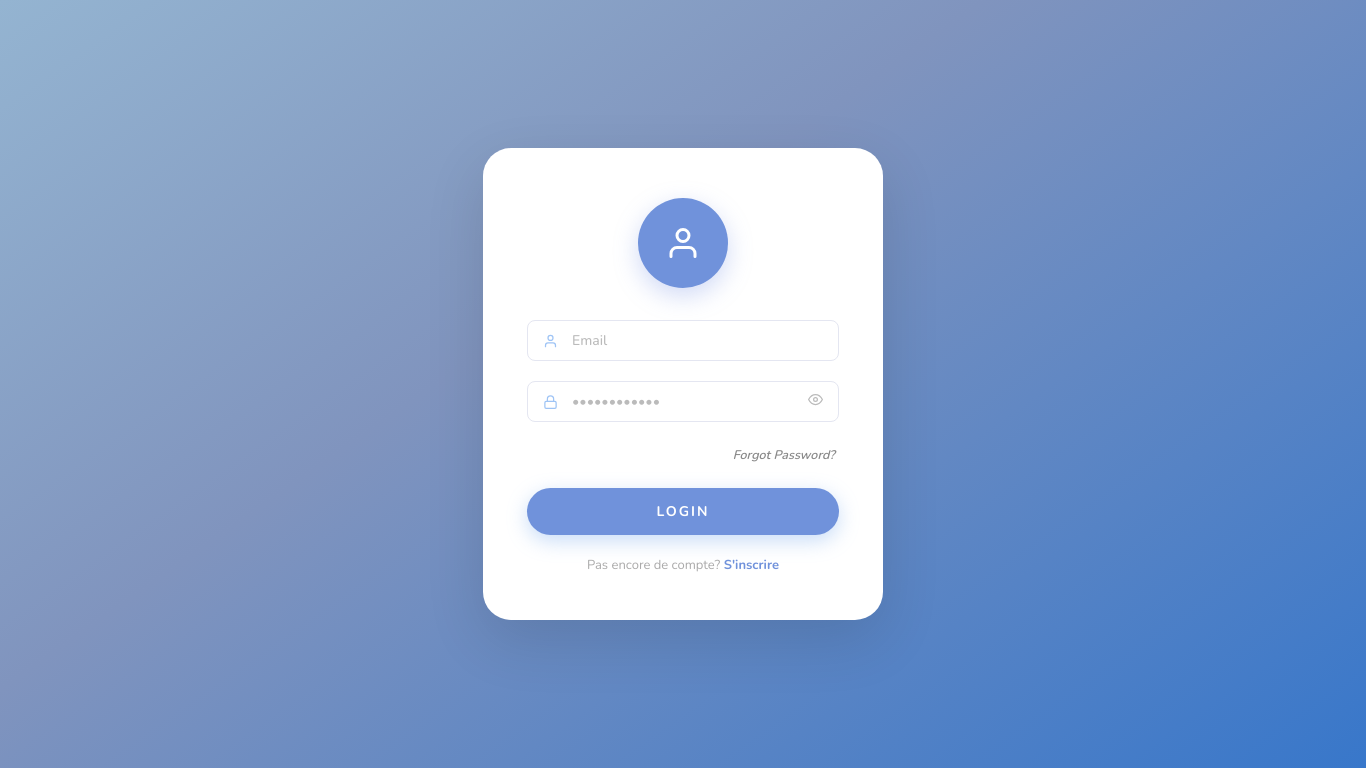
Test: LoginPage › désactive le bouton pendant le chargement
The image size is (1366, 768).
Type "j@test.com" into the field with placeholder "Email".
click(683, 341); type("j@test.com")  # box [527,320,839,361]
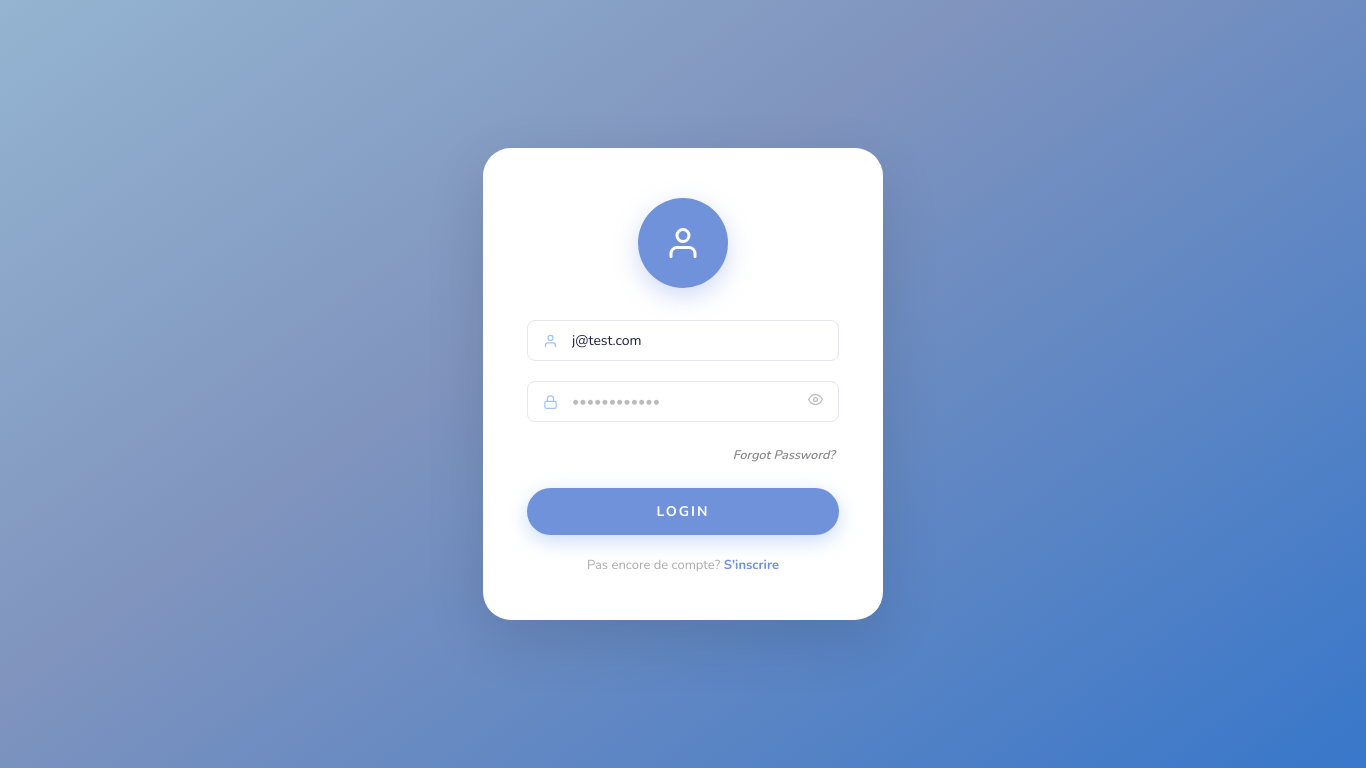
Type "pass" into the password field with placeholder "••••••••••••".
click(683, 402); type("pass")  # box [527,381,839,422]
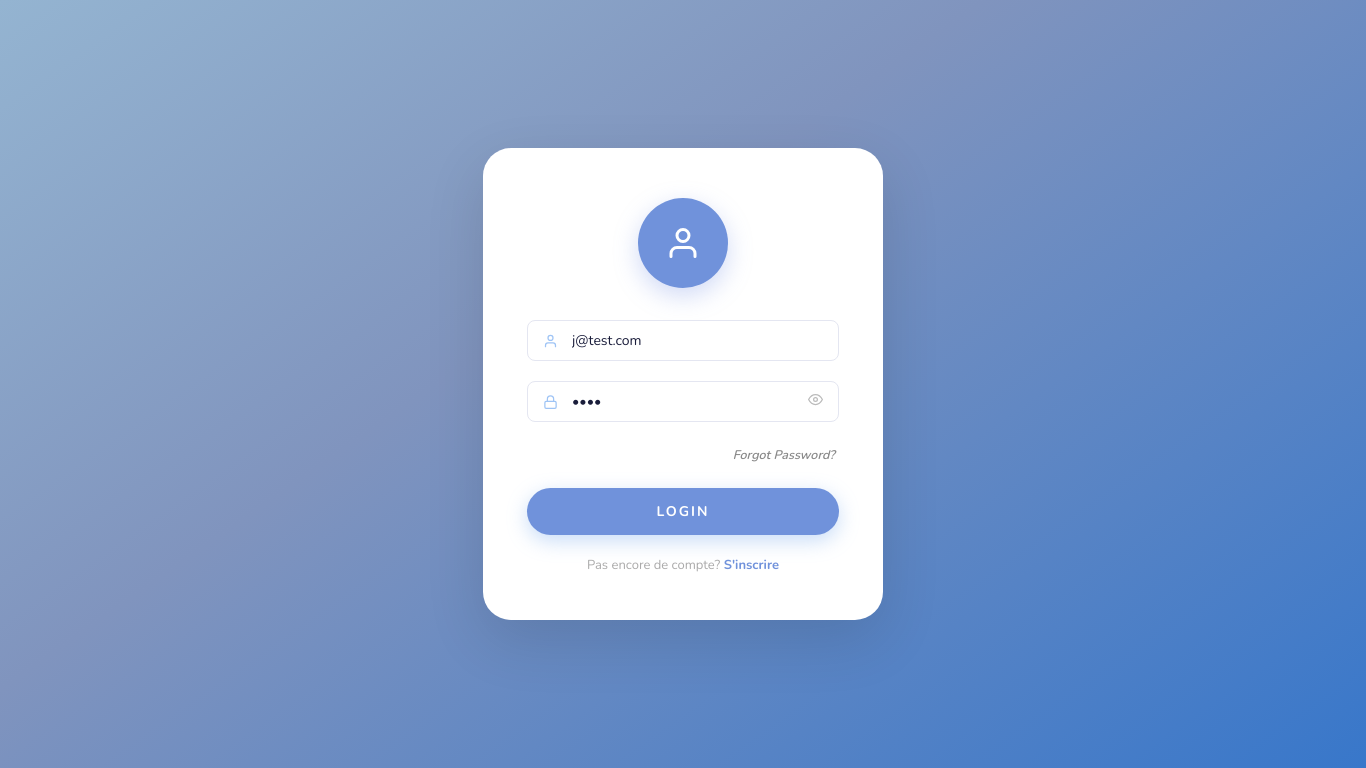
Click the button "Login".
click(683, 511)  # box [527,488,839,535]
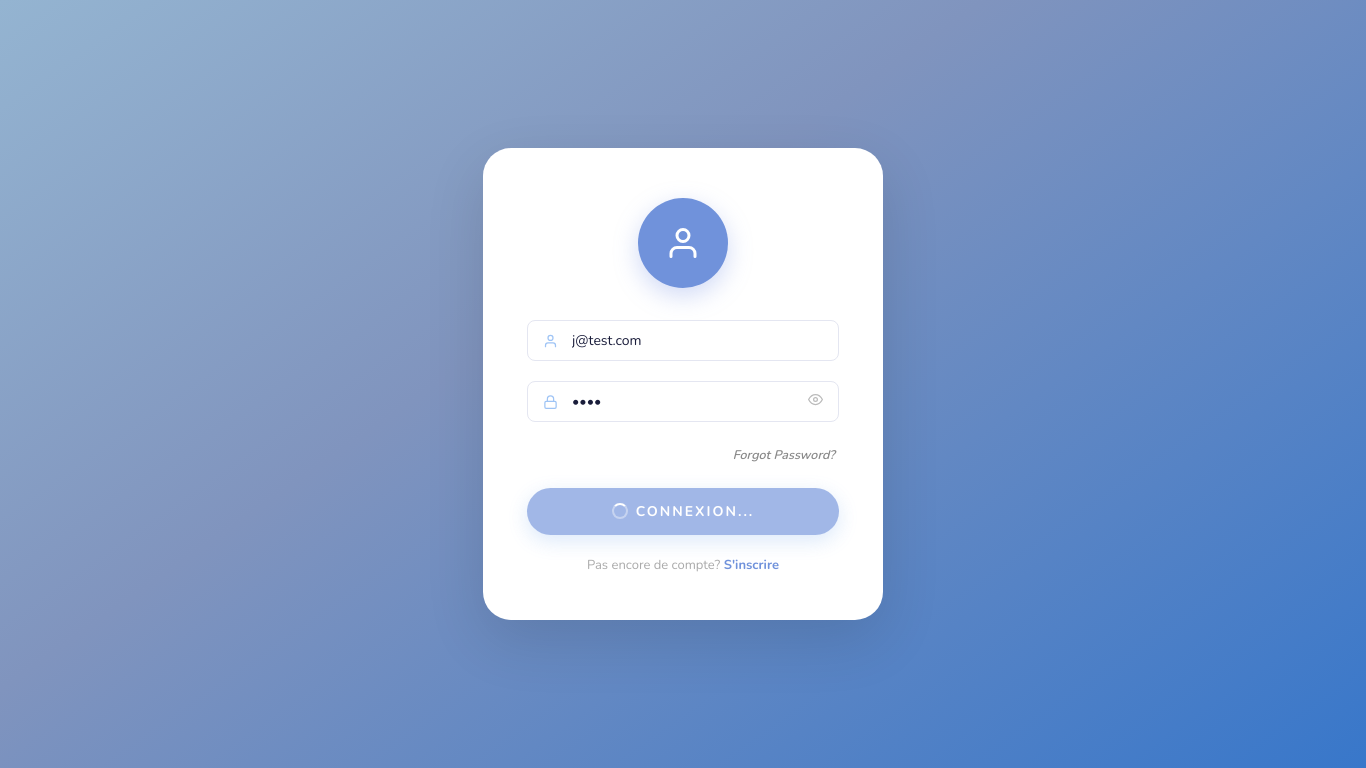
Now the button "Connexion..." is disabled, box [527,488,839,535]
